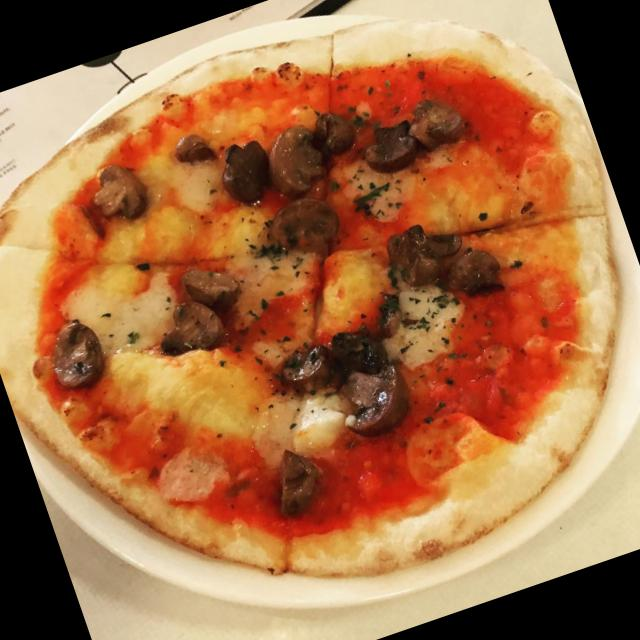mushrooms: (326, 356, 418, 452), (379, 205, 472, 297), (258, 180, 352, 266), (142, 284, 234, 368), (82, 147, 165, 236), (41, 313, 118, 396), (208, 128, 278, 215), (260, 439, 334, 520), (258, 118, 332, 198), (426, 240, 507, 312), (322, 308, 394, 387), (400, 84, 470, 157), (178, 248, 250, 314), (276, 334, 344, 402), (360, 110, 422, 180), (304, 98, 362, 163), (170, 125, 210, 167)
pizza: (0, 19, 623, 582)
